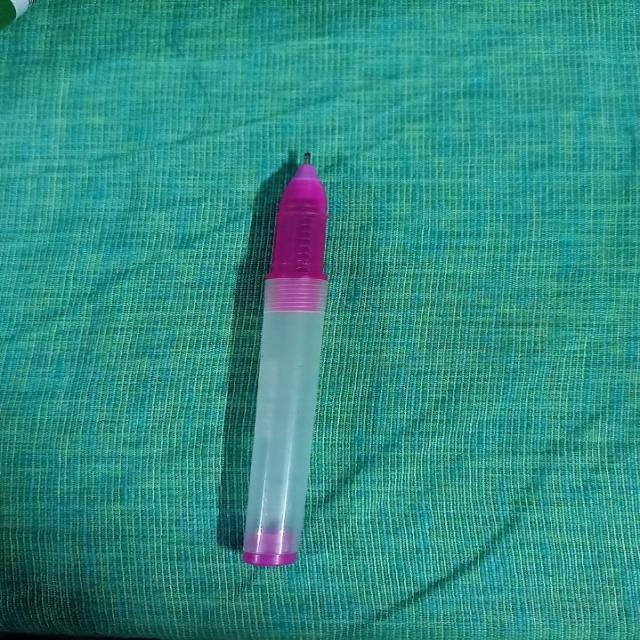pen: (211, 143, 346, 574)
